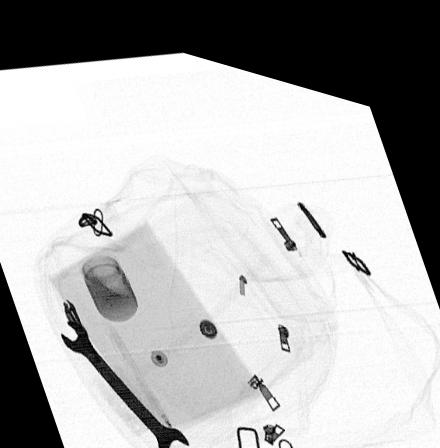Wrench: (57, 314, 188, 448)
